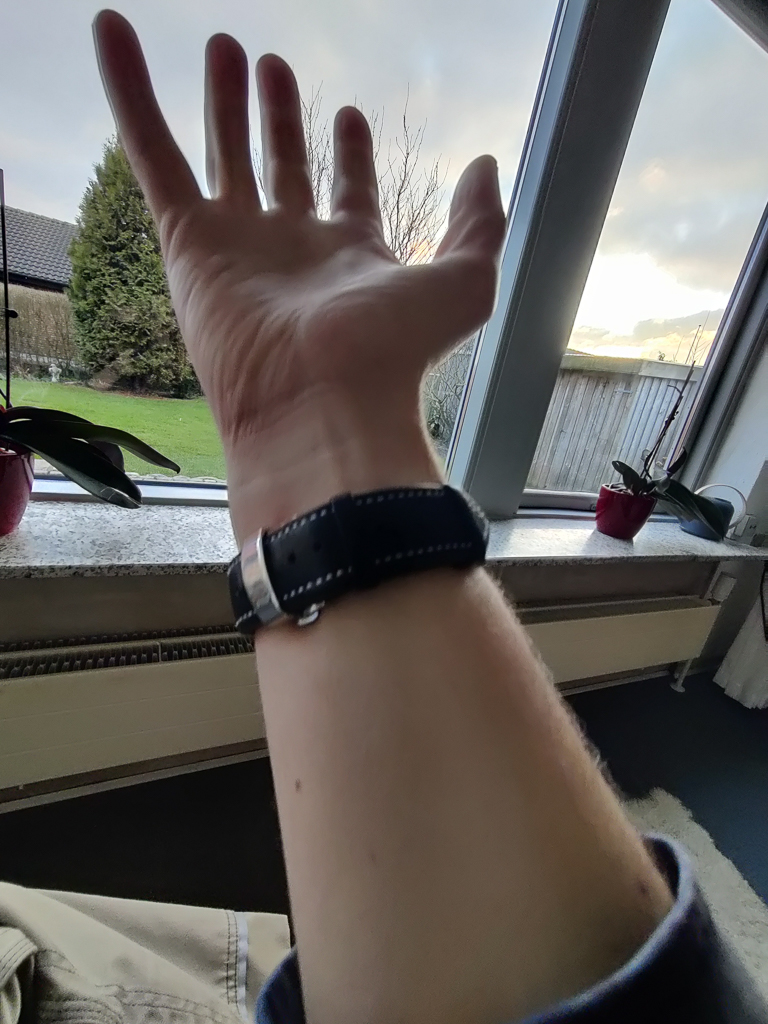Eagle: (46, 362, 65, 384)
Humanoid: (0, 0, 768, 1024)
